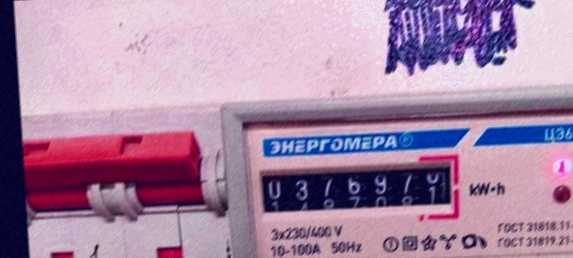0: (267, 177, 283, 200)
1: (426, 185, 439, 205)
3: (295, 179, 311, 201)
6: (346, 171, 363, 195)
7: (319, 174, 336, 198), (400, 171, 416, 195)
9: (372, 172, 389, 196)
screen: (250, 149, 466, 235)
